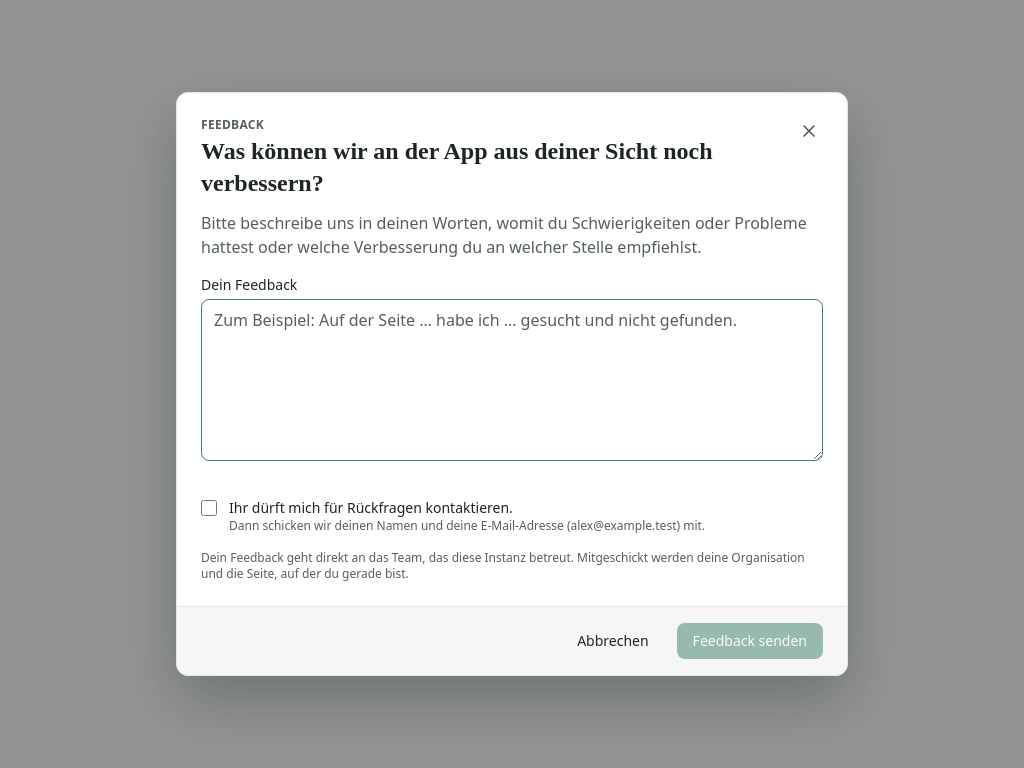
Scenario: FeedbackModal › hat in beiden Zuständen keine axe-Verstöße
This screenshot has width=1024, height=768.
Replace the text in the text box labelled "Dein Feedback" with "Gut so" at [512, 380], box [201,299,823,461]
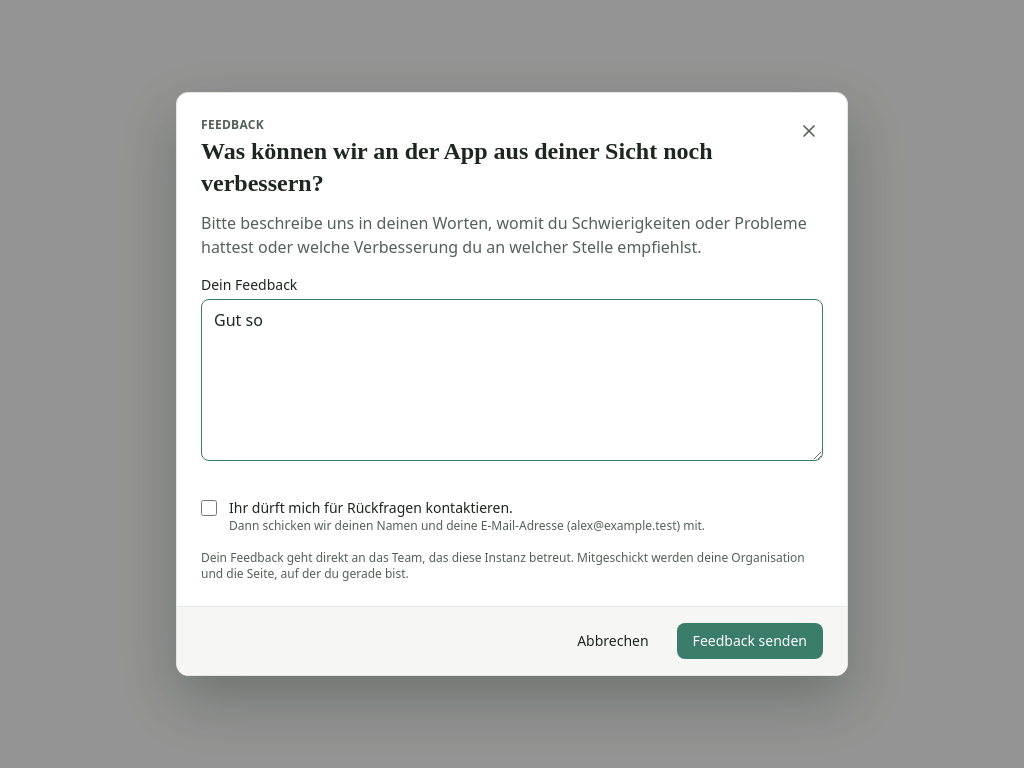
Click the button "Feedback senden" at [750, 641], box [677,623,823,659]
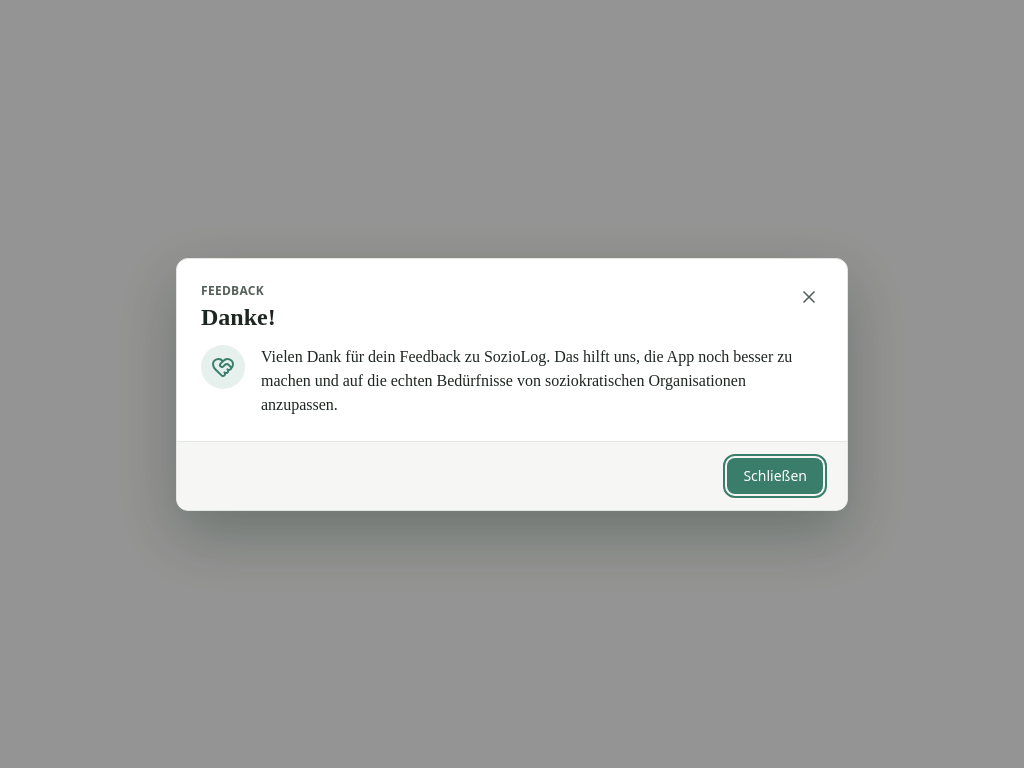
Now the message is shown, box [201,344,823,416]
